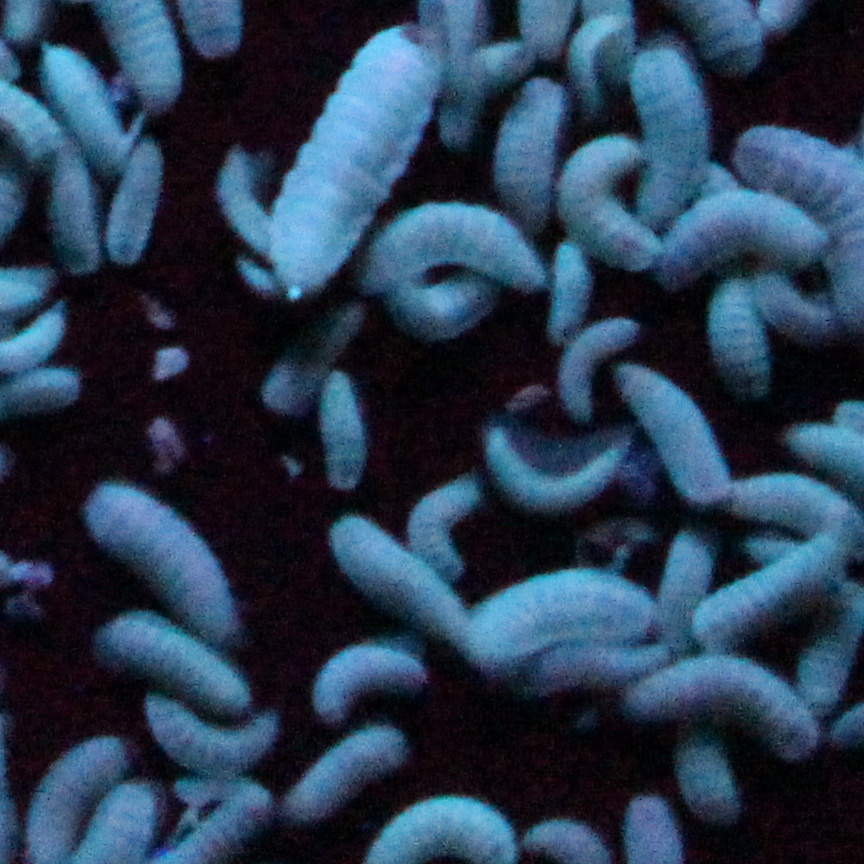larve: (274, 53, 423, 296), (705, 527, 851, 651), (97, 503, 239, 625), (339, 529, 468, 649), (639, 664, 805, 746), (110, 625, 244, 707), (385, 217, 544, 286), (483, 588, 654, 649), (575, 149, 668, 256), (654, 378, 727, 507), (485, 442, 622, 505), (656, 56, 712, 210), (305, 725, 405, 805), (666, 207, 819, 259), (666, 722, 741, 815), (751, 476, 861, 539), (171, 710, 290, 768), (54, 50, 121, 153), (508, 85, 562, 211), (317, 637, 417, 705), (719, 290, 783, 395), (269, 317, 349, 401), (397, 281, 502, 339), (454, 53, 518, 147), (59, 145, 108, 265), (668, 529, 722, 637), (566, 325, 624, 417), (327, 376, 375, 486), (112, 137, 159, 248), (539, 642, 651, 683), (419, 488, 471, 576), (580, 10, 617, 117), (554, 246, 590, 339), (233, 163, 272, 248)
